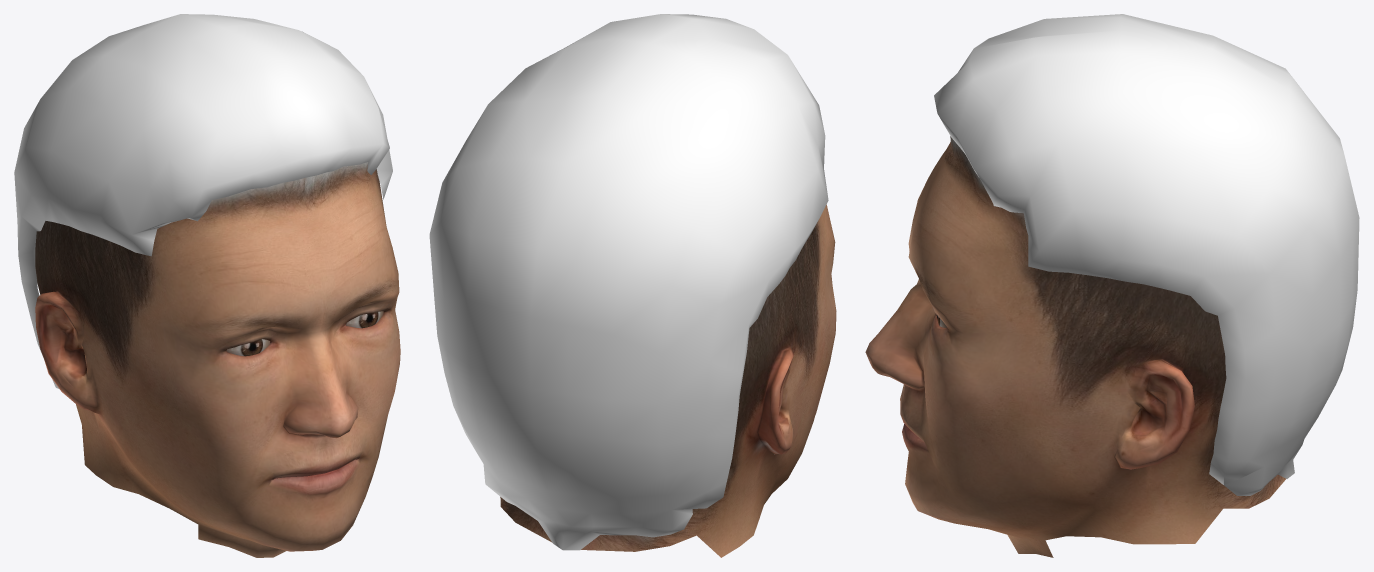
Rendered from baihe.glb.
3 renders of one model, left to right at view 1: azimuth 30°, elevation 25°; view 2: azimuth 150°, elevation 25°; view 3: azimuth 270°, elevation 25°, orthographic. The views are drawn at different scales.
Parts seen in each view (by area): view 1: face, cap; view 2: cap, face; view 3: cap, face.
Boxes of the visible parts, x1,y1,x2,y2 form: face: (35, 162, 400, 557); cap: (14, 14, 392, 389); cap: (429, 14, 828, 550); face: (500, 204, 836, 557); cap: (934, 14, 1359, 495); face: (865, 136, 1285, 557).
Size of the model in its own units: 0.1834 by 0.2728 by 0.2358.
2 materials, 1 textured.
